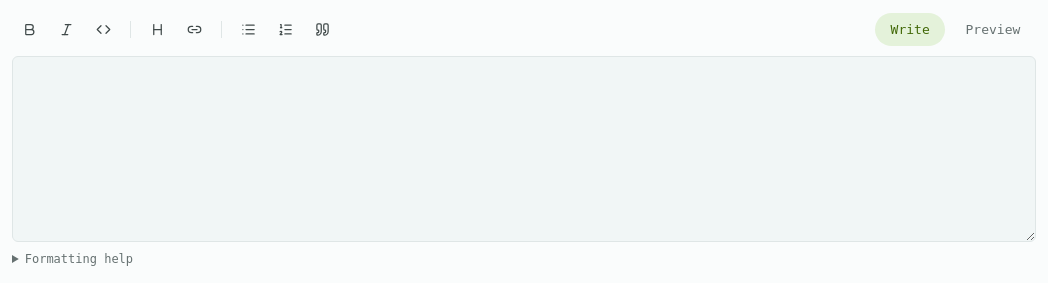
Test case: MarkdownEditor panes › disables the toolbar under the preview, where there is no caret
Type "some text" into the text box at (524,149), box [12,56,1036,242]
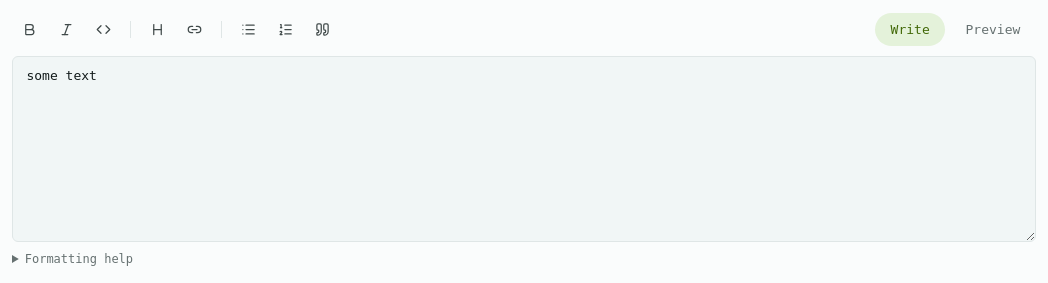
Click the button "Preview" at (993,29), box [950,13,1036,46]
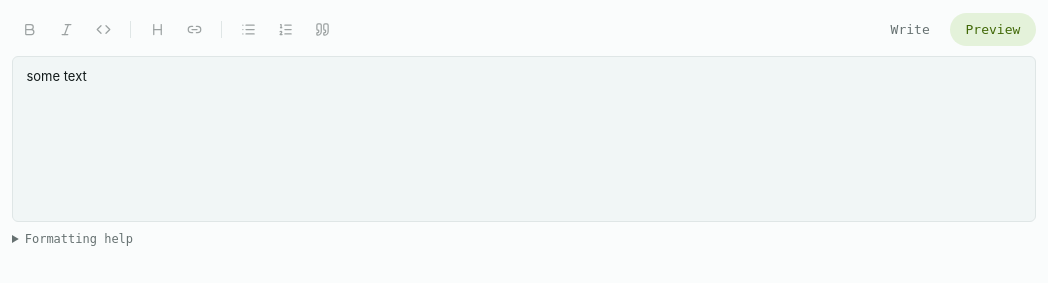
Now the button named "Bold" is disabled, box [12,12,47,47]
